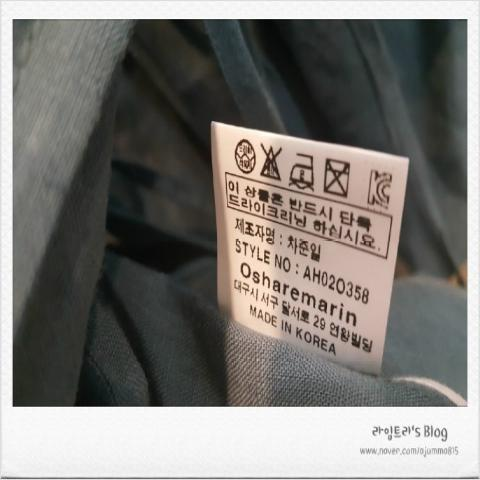DN_bleach: (259, 143, 287, 182)
DN_wash: (320, 155, 355, 197)
dry_clean_petrol_only: (233, 138, 259, 174)
iron_medium: (287, 151, 320, 190)
